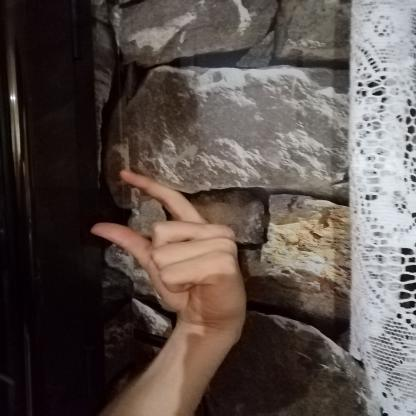DELL: (73, 162, 263, 338)
